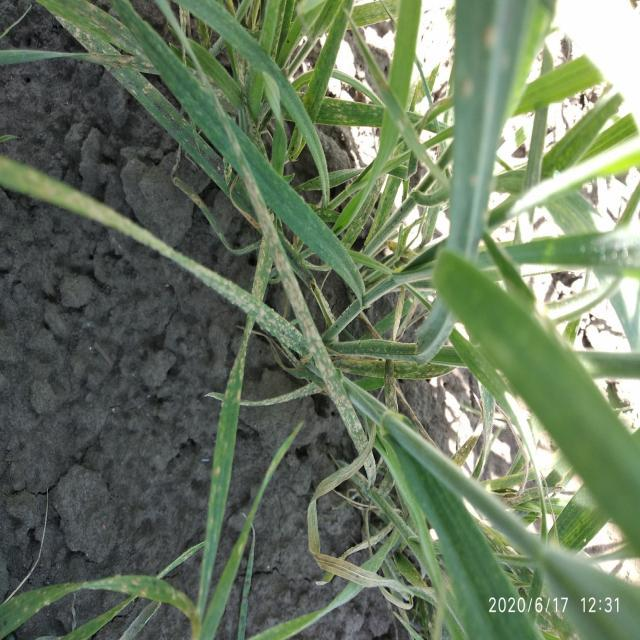wheat-powdery-mildew: (236, 154, 369, 453)
